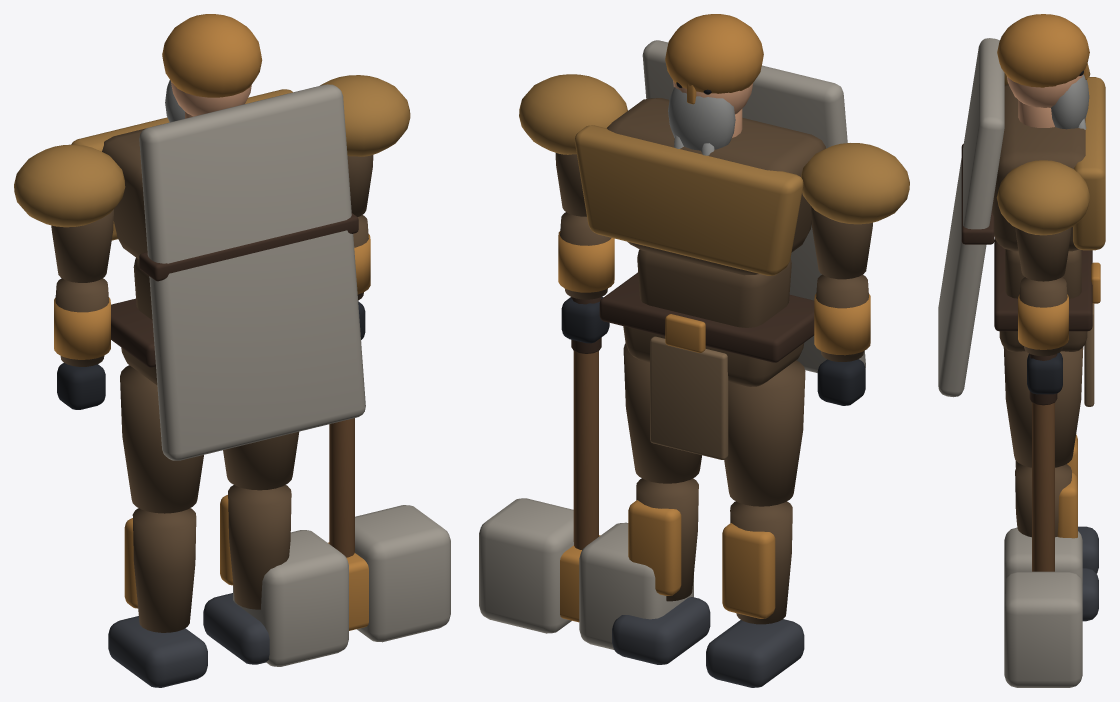
The model's file is nok.glb.
The picture shows the model from 3 angles, left to right: view 1: azimuth 30°, elevation 25°; view 2: azimuth 150°, elevation 25°; view 3: azimuth 270°, elevation 25°; orthographic projection. The views are drawn at different scales.
Parts seen in each view (by area): view 1: Tablet, HeadB, HeadA, Pauldron0, Shin0, Thigh0, Helm, Shin1, Boot0, Pauldron1, Haft, Torso (+16 smaller); view 2: ChestPlate, HeadB, Thigh0, Tablet, Tabard, Waist, Torso, Pauldron0, HeadA, Belt, Helm, Pauldron1 (+20 smaller); view 3: Tablet, HeadB, Pauldron1, Helm, Thigh1, Torso, ChestPlate, Haft, Belt, UpperArm1, Bracer1, HeadA (+15 smaller).
Boxes of the visible parts, x1,y1,x2,y2 form: Tablet: [139, 84, 365, 460]; HeadB: [355, 505, 450, 642]; HeadA: [233, 530, 348, 666]; Pauldron0: [14, 144, 125, 227]; Shin0: [132, 508, 196, 632]; Thigh0: [120, 365, 203, 513]; Helm: [162, 14, 262, 97]; Shin1: [228, 485, 291, 609]; Boot0: [108, 616, 207, 687]; Pauldron1: [320, 75, 410, 156]; Haft: [329, 418, 354, 557]; Torso: [102, 128, 147, 259]; ChestPlate: [574, 125, 803, 275]; HeadB: [479, 498, 573, 633]; Thigh0: [724, 360, 805, 506]; Tablet: [642, 40, 865, 372]; Tabard: [650, 336, 728, 459]; Waist: [637, 249, 791, 327]; Torso: [607, 98, 825, 275]; Pauldron0: [801, 143, 909, 224]; HeadA: [579, 522, 693, 649]; Belt: [599, 272, 814, 362]; Helm: [665, 14, 763, 93]; Pauldron1: [519, 74, 627, 154]; Tablet: [938, 38, 1004, 397]; HeadB: [1004, 571, 1082, 687]; Pauldron1: [996, 160, 1090, 235]; Helm: [997, 14, 1089, 87]; Thigh1: [1003, 347, 1083, 467]; Torso: [992, 84, 1085, 251]; ChestPlate: [1073, 77, 1105, 250]; Haft: [1032, 402, 1054, 571]; Belt: [994, 238, 1092, 331]; UpperArm1: [1015, 228, 1071, 281]; Bracer1: [1018, 294, 1068, 349]; HeadA: [1004, 527, 1082, 583].
Bounding box in the file's own units: 1.3 × 1.95 × 0.5115.
